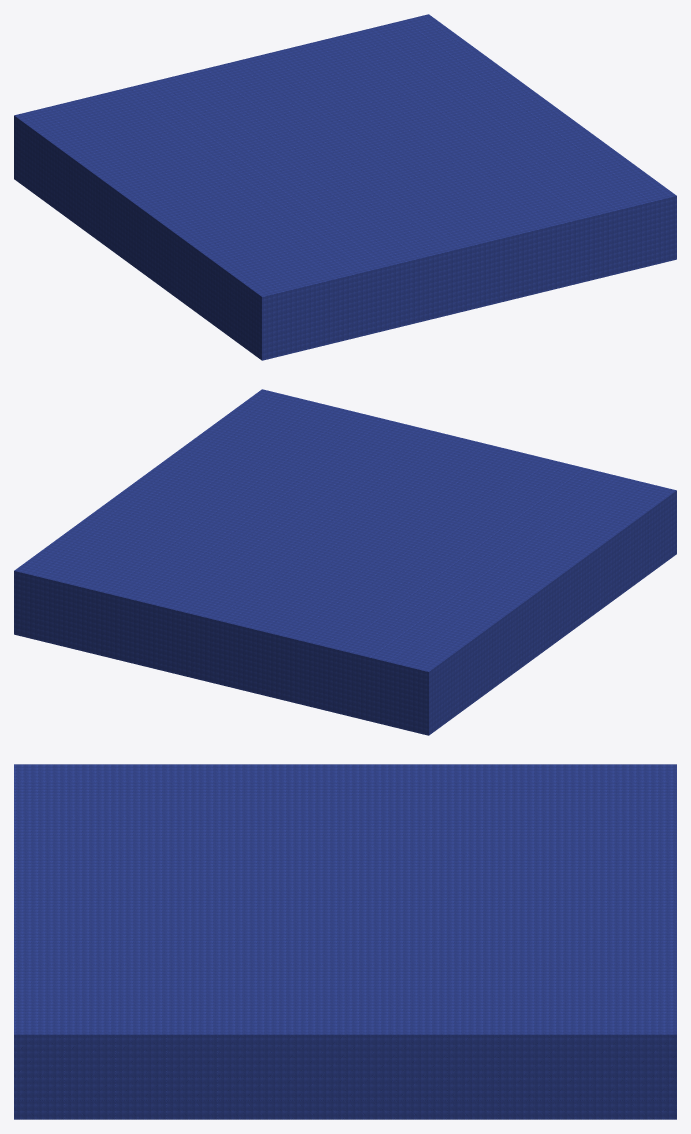
File: Sky2.glb
3 renders of one model, top to bottom at view 1: azimuth 30°, elevation 25°; view 2: azimuth 150°, elevation 25°; view 3: azimuth 270°, elevation 25°, orthographic. The views are drawn at different scales.
Visible parts, largest first — view 1: Sky2; view 2: Sky2; view 3: Sky2.
Part boxes in pixels (box(x1,y1,x2,y2)): Sky2: box(14, 14, 676, 360); Sky2: box(14, 389, 676, 735); Sky2: box(14, 764, 676, 1119).
Size of the model in its own units: 5613 by 824 by 5816.
Materials: 1 (1 with a texture image).
